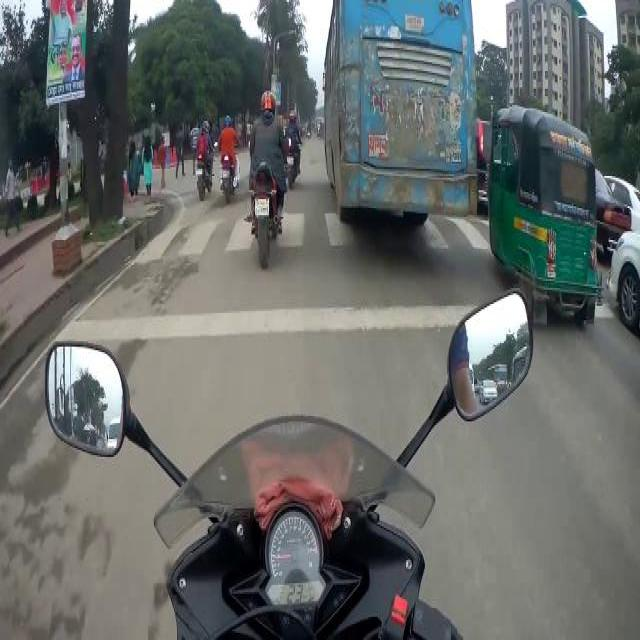10: (244, 85, 292, 274), (192, 145, 214, 203), (216, 149, 238, 207)
17: (484, 101, 606, 347)
Truck: (319, 0, 480, 236)
